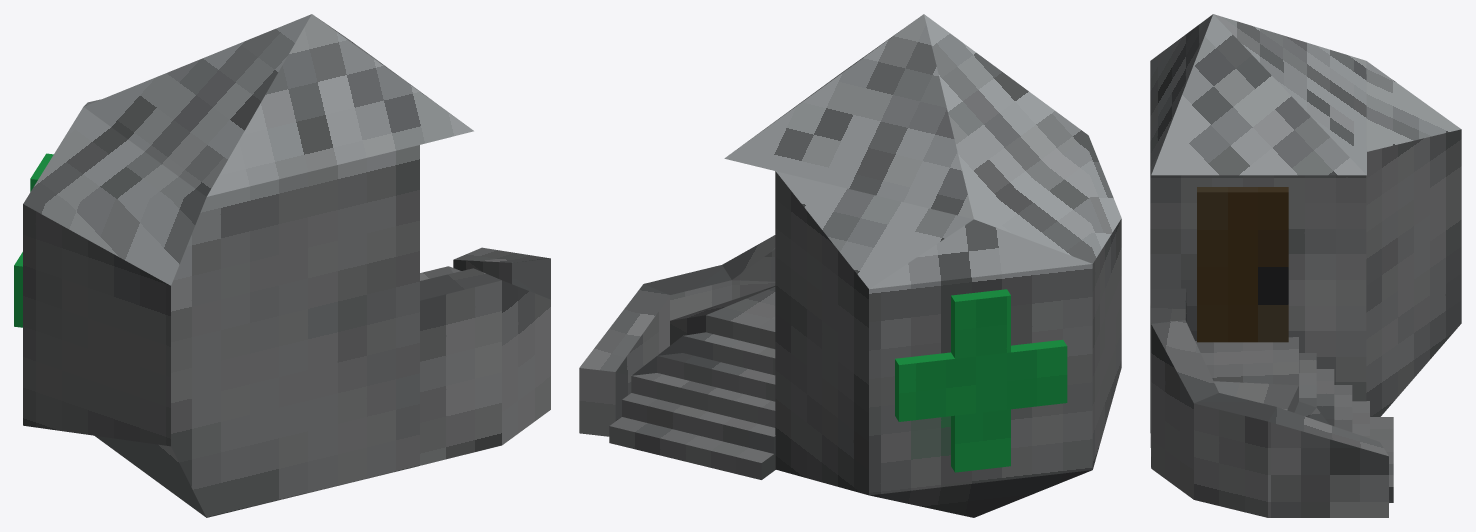
Rendered from apteka.fbx.
3 views of the same model, side by side, from view 1: azimuth 30°, elevation 25°; view 2: azimuth 150°, elevation 25°; view 3: azimuth 270°, elevation 25° (orthographic). The views are drawn at different scales.
Visible parts, largest first — view 1: pyramid, pyramid_selection; view 2: pyramid, pyramid_selection; view 3: pyramid, cuboid.
Part boxes in pixels (bbox=[...]): pyramid: bbox=[23, 14, 550, 517]; pyramid_selection: bbox=[14, 153, 53, 327]; pyramid: bbox=[579, 14, 1121, 517]; pyramid_selection: bbox=[895, 289, 1067, 472]; pyramid: bbox=[1150, 14, 1461, 517]; cuboid: bbox=[1197, 187, 1288, 342].
Bounding box in the file's own units: 108 × 90.62 × 65.78.
Materials: 2 (2 with a texture image).
